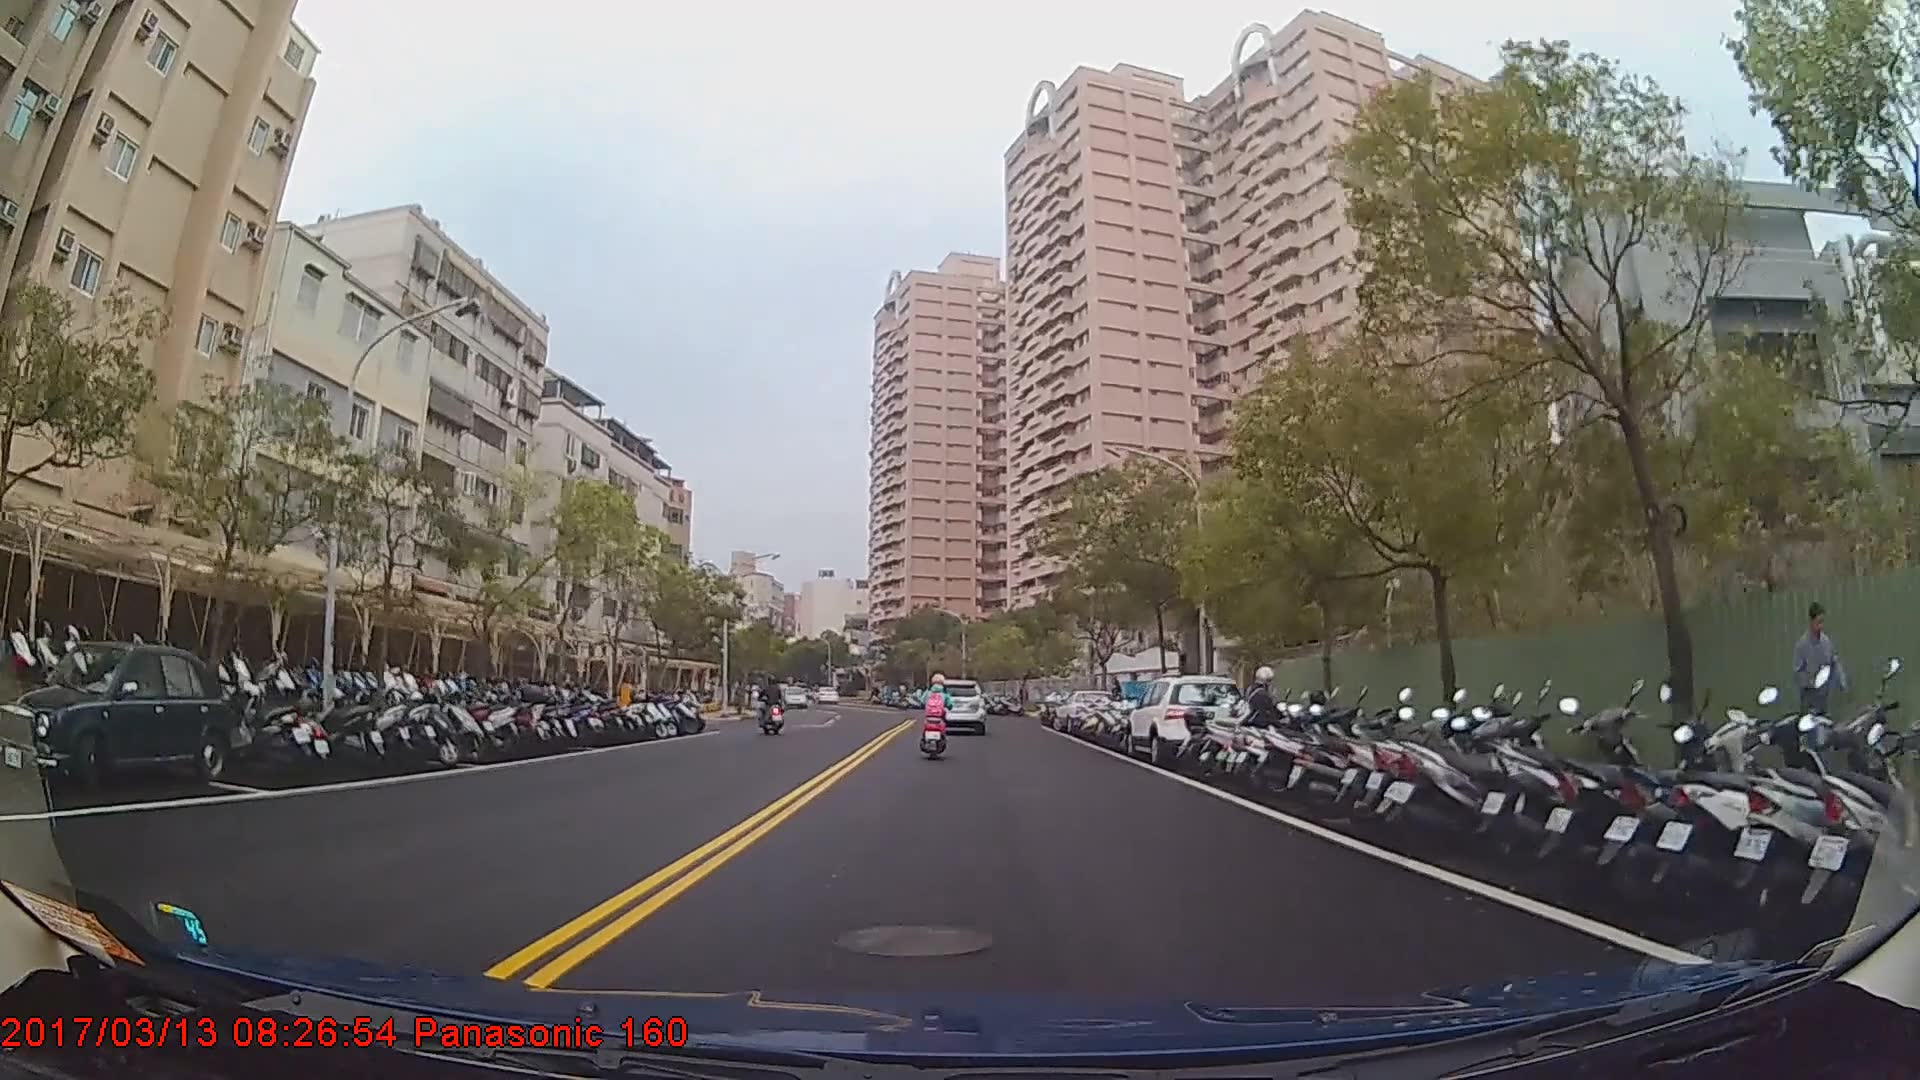pedestrian: (1793, 598, 1854, 785)
rider: (921, 674, 956, 763), (757, 675, 788, 737)
vehicle: (0, 636, 226, 795), (1124, 674, 1246, 765), (927, 679, 985, 734), (779, 685, 809, 708)
